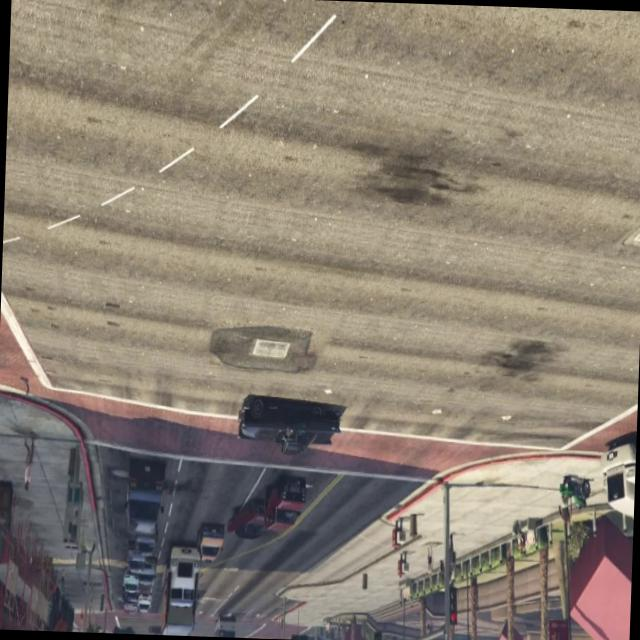Red-Signal: (446, 575, 460, 631), (370, 625, 385, 640)
